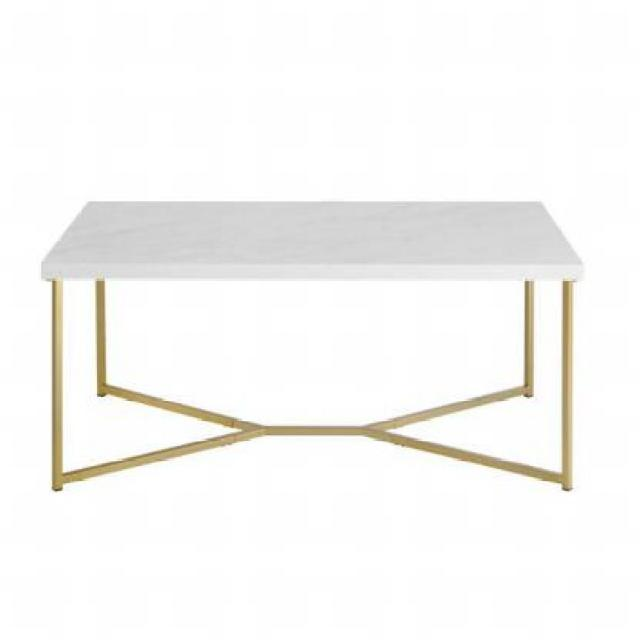table: (37, 195, 588, 497)
